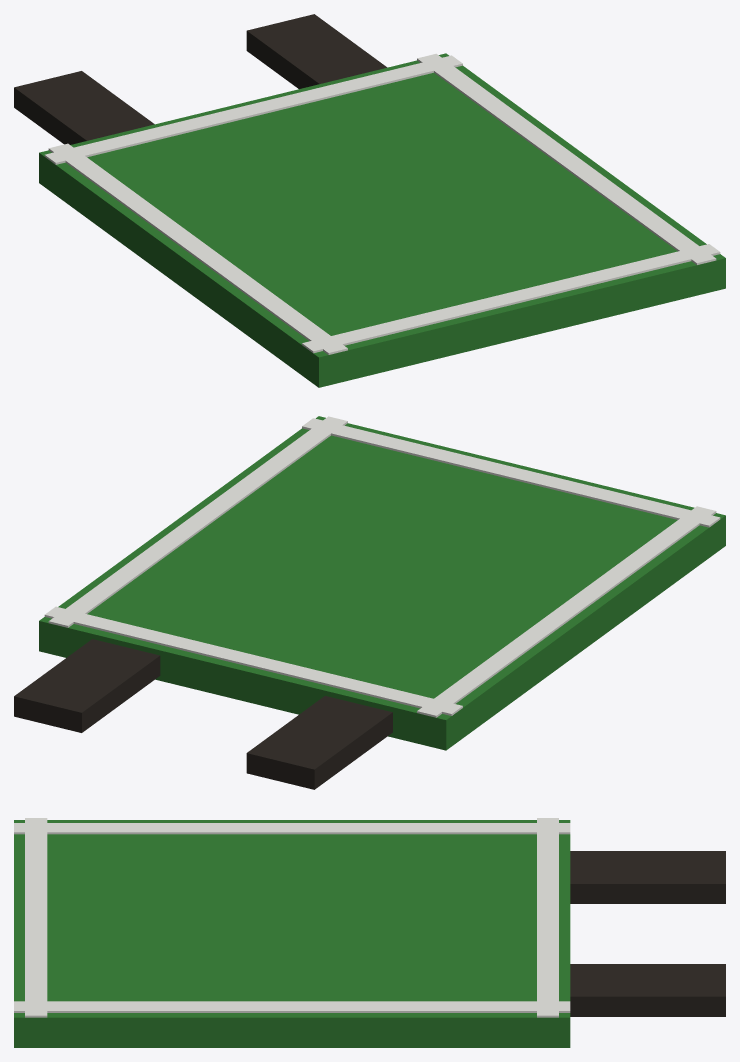
The model's file is road sign vest.glb.
3 renders of one model, top to bottom at view 1: azimuth 30°, elevation 25°; view 2: azimuth 150°, elevation 25°; view 3: azimuth 270°, elevation 25°, orthographic.
Visible parts, largest first — view 1: road sign vest; view 2: road sign vest; view 3: road sign vest.
Part boxes in pixels (bbox=[...]): road sign vest: bbox=[14, 14, 725, 387]; road sign vest: bbox=[14, 416, 725, 789]; road sign vest: bbox=[14, 818, 725, 1047].
Bounding box in the file's own units: 0.2297 × 0.0175 × 0.35.
